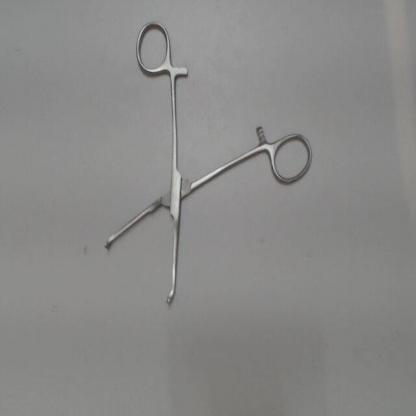Allis Tissue Forceps: (94, 14, 320, 322)
